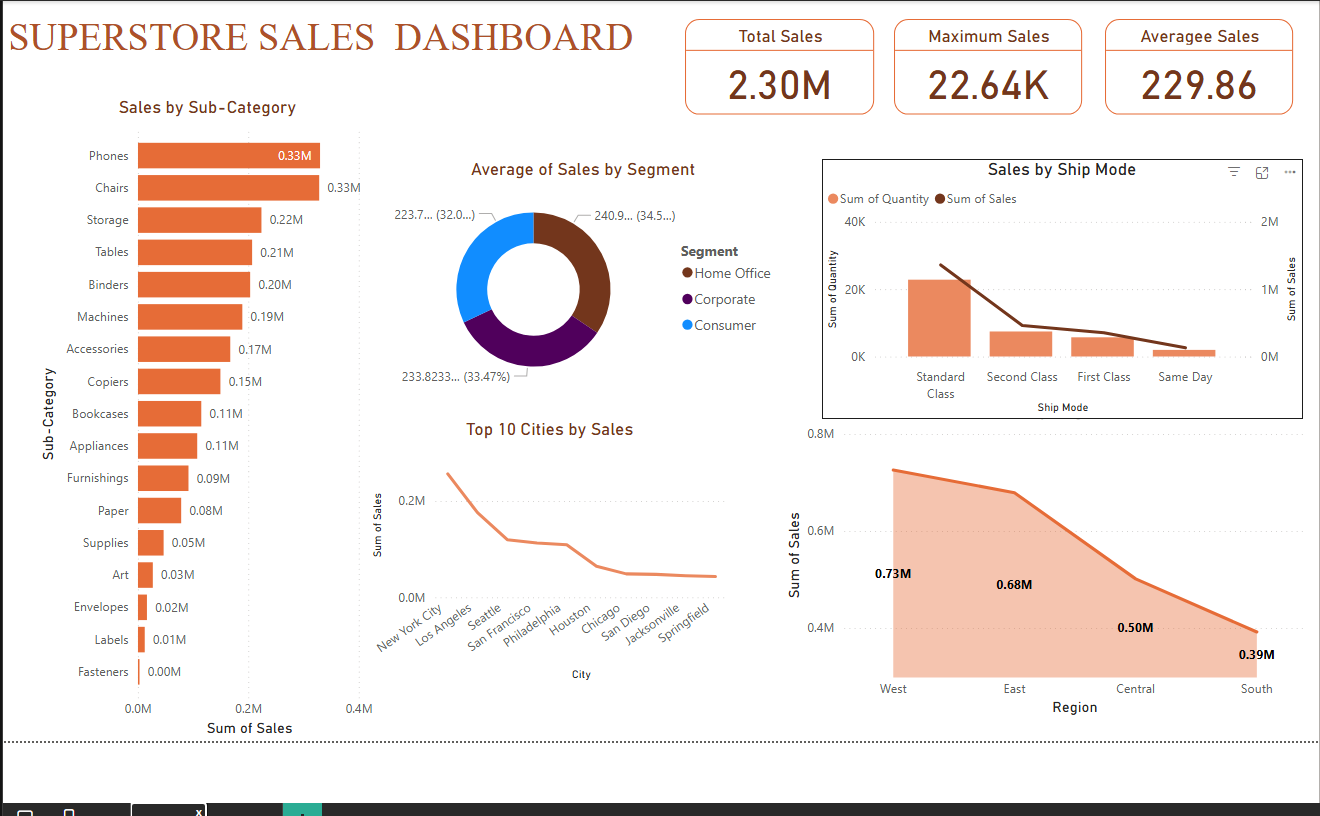

This screenshot's page, from the dashboard's own definition file:
{"tool":"powerbi","page":{"name":"Page 1","canvas":[1280,720],"ordinal":0},"visuals":[{"type":"clusteredBarChart","title":" Sales by Sub-Category","fields":{"Category":["Orders.Sub-Category"],"Y":["Sum(Orders.Sales)"]},"box":[30.2,93.4,337.5,626.4],"z":0},{"type":"donutChart","fields":{"Category":["Orders.Segment"],"Y":["Avg(Orders.Sales)"]},"box":[367.3,153.2,393.6,234.9],"z":1000},{"type":"lineChart","title":"Top 10 Cities by Sales  ","fields":{"Category":["Orders.City"],"Y":["Sum(Orders.Sales)"]},"box":[386.1,414.3,355,258.7],"z":2000},{"type":"card","title":"Total Sales","fields":{"Values":["Sum(Orders.Sales)"]},"box":[663.3,17.5,183.8,93.4],"z":3000},{"type":"stackedAreaChart","title":"Sales by Region","fields":{"Category":["Orders.Region"],"Y":["Sum(Orders.Sales)"]},"box":[755.4,388.1,516,311.9],"z":4000},{"type":"lineStackedColumnComboChart","title":"Sales by Ship Mode","fields":{"Category":["Orders.Ship Mode"],"Y2":["Sum(Orders.Sales)"],"Y":["Sum(Orders.Quantity)"]},"box":[797.1,154.2,467,252.1],"z":5000},{"type":"textbox","box":[0,8.8,663.3,55.4],"z":6000},{"type":"card","title":"Maximum Sales","fields":{"Values":["Max(Orders.Sales)"]},"box":[866.6,17.5,182.9,93.4],"z":7000},{"type":"card","title":"Averagee Sales","fields":{"Values":["Avg(Orders.Sales)"]},"box":[1071.9,17.5,182.9,93.4],"z":8000}]}

Visuals, with their boxes on the page's 1280x720 design canvas (x1, y1, x2, y2). These are canvas units, not pixel positions in the 1320x816 screenshot, which may show the page scaled, cropped or inside an application window:
" Sales by Sub-Category" clusteredBarChart: {"x1": 30, "y1": 93, "x2": 368, "y2": 720}
donutChart - Orders.Segment x Avg(Orders.Sales): {"x1": 367, "y1": 153, "x2": 761, "y2": 388}
"Top 10 Cities by Sales  " lineChart: {"x1": 386, "y1": 414, "x2": 741, "y2": 673}
"Total Sales" card: {"x1": 663, "y1": 18, "x2": 847, "y2": 111}
"Sales by Region" stackedAreaChart: {"x1": 755, "y1": 388, "x2": 1271, "y2": 700}
"Sales by Ship Mode" lineStackedColumnComboChart: {"x1": 797, "y1": 154, "x2": 1264, "y2": 406}
textbox: {"x1": 0, "y1": 9, "x2": 663, "y2": 64}
"Maximum Sales" card: {"x1": 867, "y1": 18, "x2": 1050, "y2": 111}
"Averagee Sales" card: {"x1": 1072, "y1": 18, "x2": 1255, "y2": 111}
